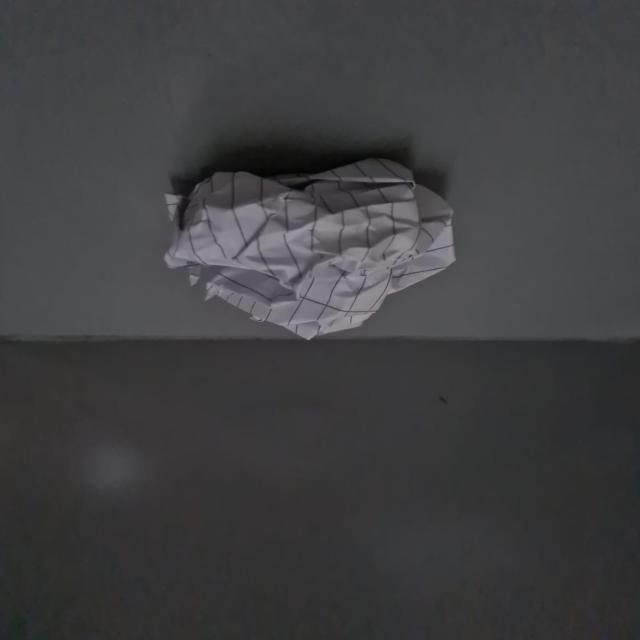kertas: (135, 152, 473, 340)
